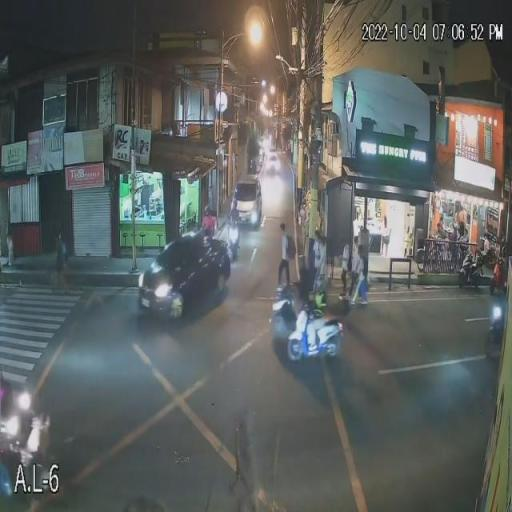helmet: (315, 275, 329, 294), (296, 256, 305, 268), (232, 198, 237, 211)
motorcycle: (291, 311, 349, 364), (264, 290, 314, 336), (227, 228, 244, 256)
rider: (308, 274, 330, 338), (294, 257, 312, 303), (228, 196, 242, 230)
